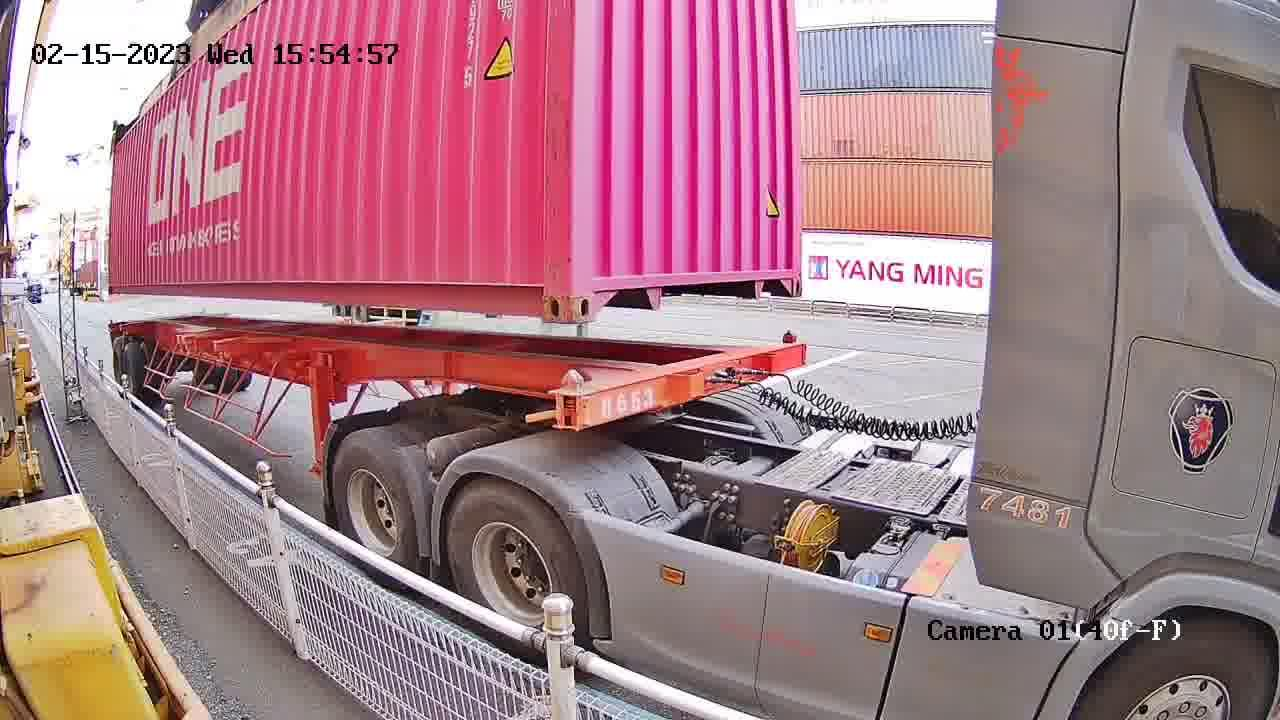Chassis: (579, 340, 805, 426)
Cone: (549, 365, 586, 431), (783, 330, 805, 360)
Hole_L: (573, 249, 618, 324)
Hole_R: (505, 246, 573, 323), (757, 225, 805, 295)
Tire: (444, 480, 588, 639), (332, 439, 418, 568)
